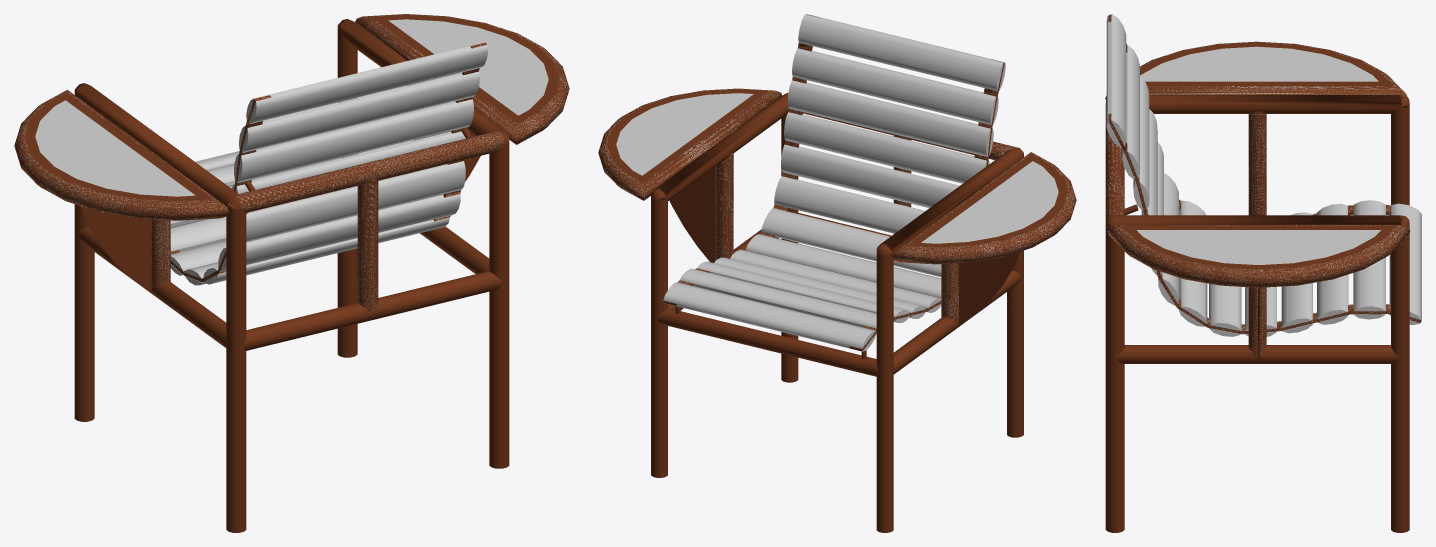
The picture shows the model from 3 angles, left to right: view 1: azimuth 30°, elevation 25°; view 2: azimuth 150°, elevation 25°; view 3: azimuth 270°, elevation 25°; orthographic projection. The views are drawn at different scales.
Parts seen in each view (by area): view 1: mesh10_mesh10-geometry, mesh9_mesh9-geometry, mesh1_mesh1-geometry, mesh4_mesh4-geometry, mesh75_mesh75-geometry, mesh5_mesh5-geometry, mesh8_mesh8-geometry, mesh77_mesh77-geometry, mesh3_mesh3-geometry, mesh11_mesh11-geometry; view 2: mesh10_mesh10-geometry, mesh9_mesh9-geometry, mesh1_mesh1-geometry, mesh4_mesh4-geometry, mesh5_mesh5-geometry, mesh3_mesh3-geometry, mesh8_mesh8-geometry, mesh76_mesh76-geometry, mesh77_mesh77-geometry, mesh11_mesh11-geometry, mesh75_mesh75-geometry; view 3: mesh9_mesh9-geometry, mesh10_mesh10-geometry, mesh1_mesh1-geometry, mesh4_mesh4-geometry, mesh8_mesh8-geometry, mesh5_mesh5-geometry, mesh3_mesh3-geometry, mesh11_mesh11-geometry, mesh75_mesh75-geometry.
Part boxes in pixels (<box>): mesh10_mesh10-geometry: <box>170,42,488,285</box>; mesh9_mesh9-geometry: <box>14,14,569,220</box>; mesh1_mesh1-geometry: <box>74,31,509,532</box>; mesh4_mesh4-geometry: <box>77,202,501,350</box>; mesh75_mesh75-geometry: <box>237,131,504,212</box>; mesh5_mesh5-geometry: <box>151,135,433,311</box>; mesh8_mesh8-geometry: <box>74,83,241,209</box>; mesh77_mesh77-geometry: <box>80,206,151,291</box>; mesh3_mesh3-geometry: <box>337,19,509,144</box>; mesh11_mesh11-geometry: <box>170,42,486,281</box>; mesh10_mesh10-geometry: <box>663,14,1005,351</box>; mesh9_mesh9-geometry: <box>598,88,1076,264</box>; mesh1_mesh1-geometry: <box>651,114,1023,532</box>; mesh4_mesh4-geometry: <box>657,213,1021,376</box>; mesh5_mesh5-geometry: <box>716,134,958,322</box>; mesh3_mesh3-geometry: <box>651,92,788,200</box>; mesh8_mesh8-geometry: <box>876,147,1023,255</box>; mesh76_mesh76-geometry: <box>669,166,715,262</box>; mesh77_mesh77-geometry: <box>959,251,1020,324</box>; mesh11_mesh11-geometry: <box>663,14,1004,351</box>; mesh75_mesh75-geometry: <box>803,112,1017,159</box>; mesh9_mesh9-geometry: <box>1105,41,1410,287</box>; mesh10_mesh10-geometry: <box>1106,14,1421,336</box>; mesh1_mesh1-geometry: <box>1105,106,1409,532</box>; mesh4_mesh4-geometry: <box>1117,345,1397,363</box>; mesh8_mesh8-geometry: <box>1105,95,1409,113</box>; mesh5_mesh5-geometry: <box>1248,111,1266,355</box>; mesh3_mesh3-geometry: <box>1105,215,1409,227</box>; mesh11_mesh11-geometry: <box>1108,14,1421,334</box>; mesh75_mesh75-geometry: <box>1105,100,1124,224</box>.
Size of the model in its own units: 0.7144 by 0.5694 by 0.4068.
